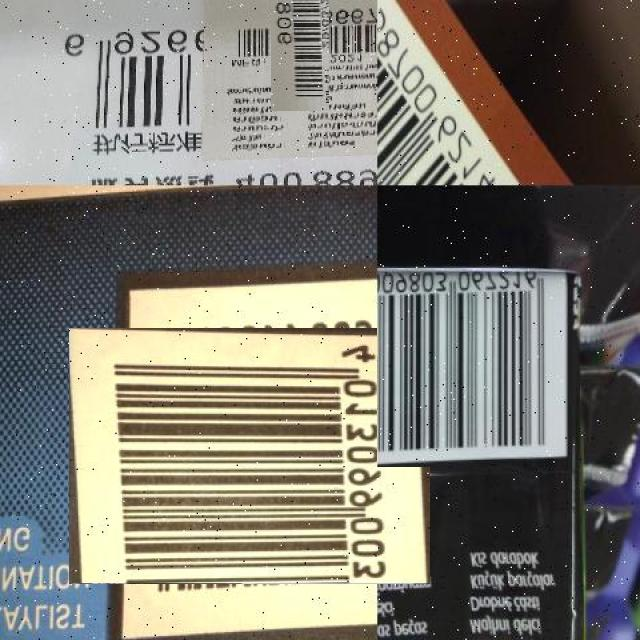Barcode: (95, 301, 404, 611), (377, 264, 564, 467), (377, 0, 579, 185), (246, 0, 353, 86)
